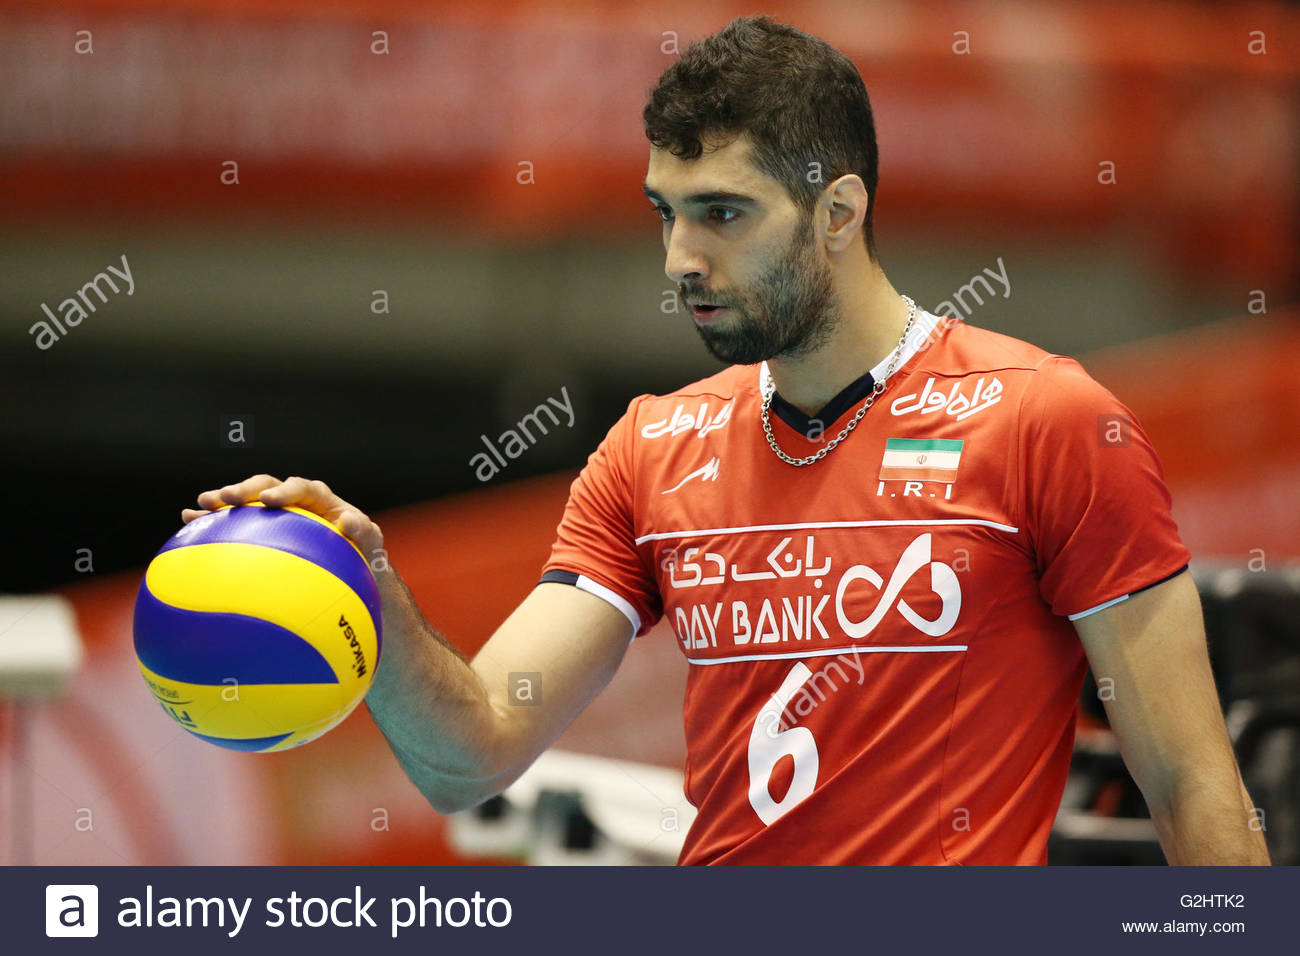volleyball: (131, 502, 384, 754)
